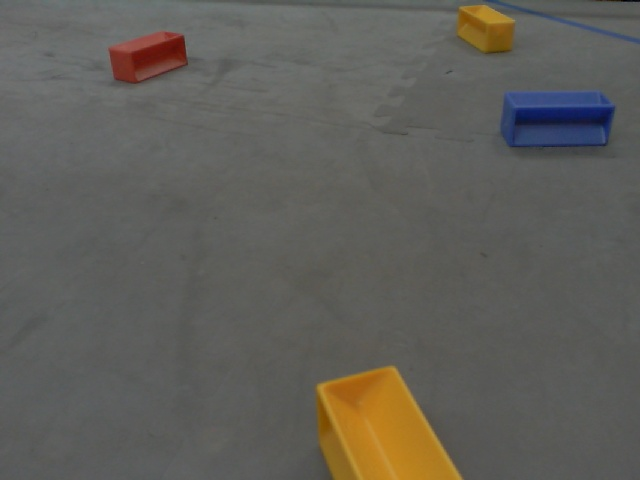BlueSample: (497, 88, 617, 149)
RedSample: (106, 27, 190, 86)
YellowSample: (302, 362, 466, 480), (451, 2, 518, 56)
